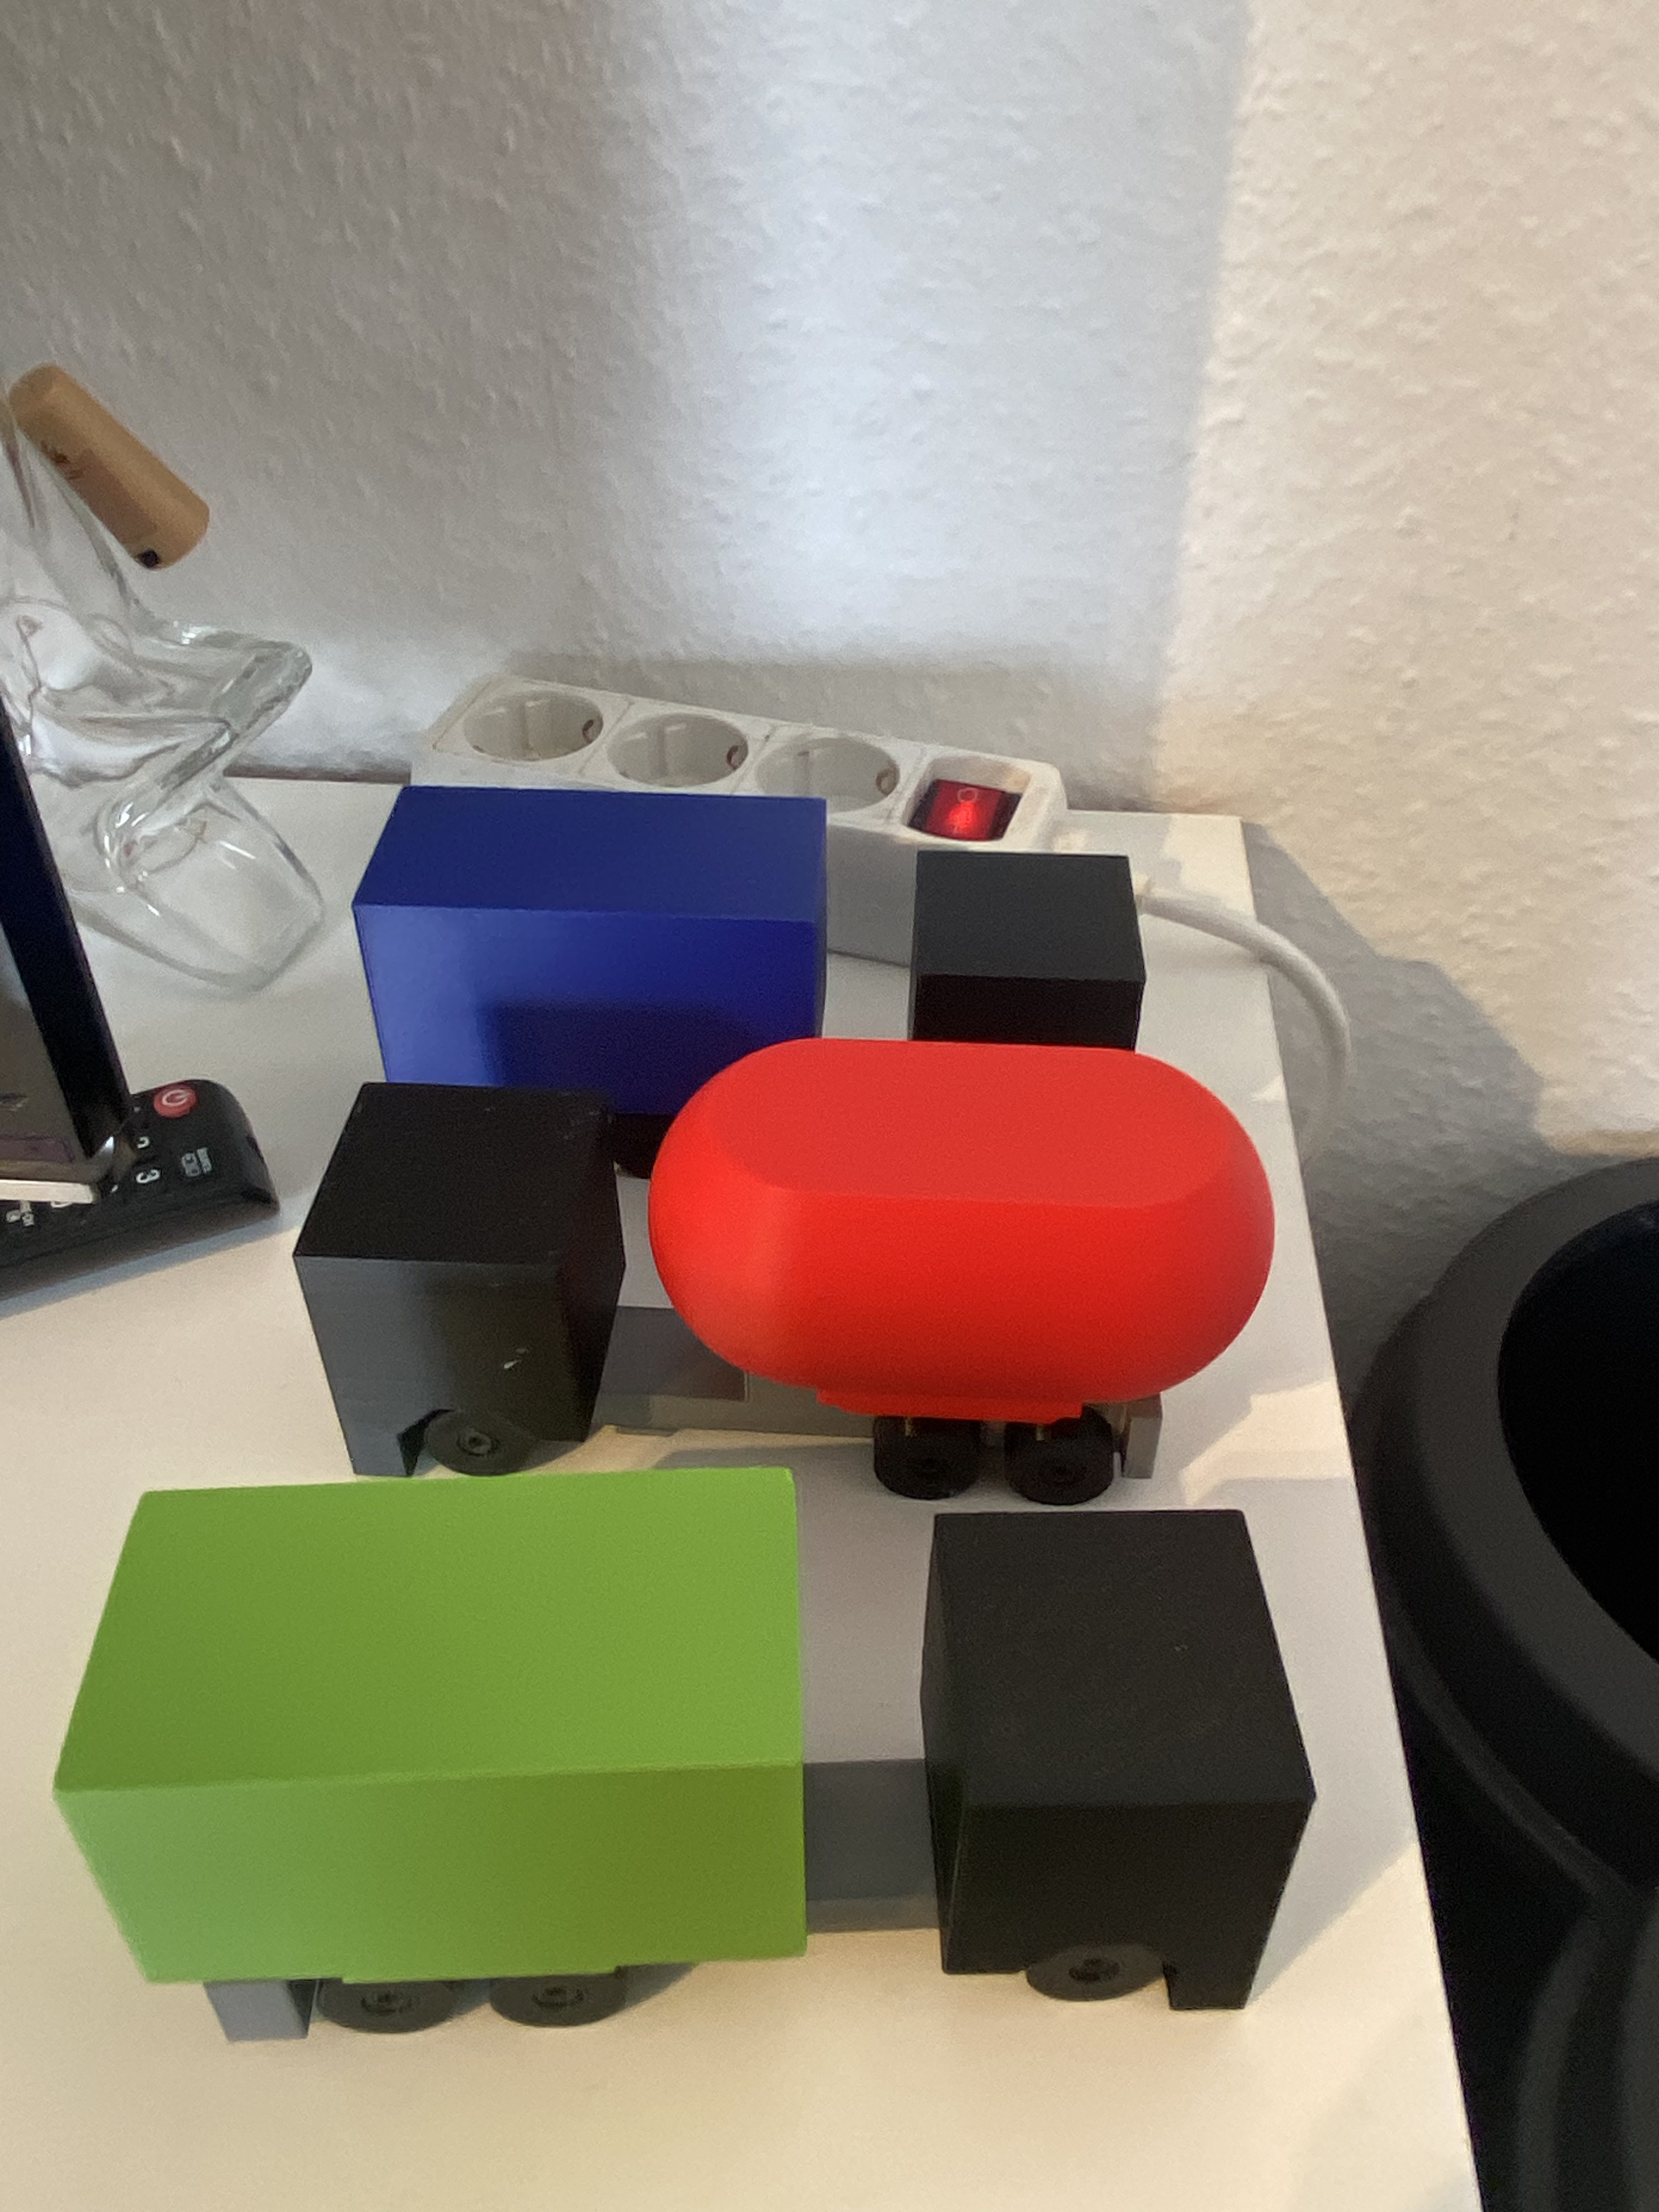blue_truck: (343, 792, 1136, 1169)
green_truck: (394, 1125, 951, 2212)
red_truck: (289, 1026, 1272, 1468)
